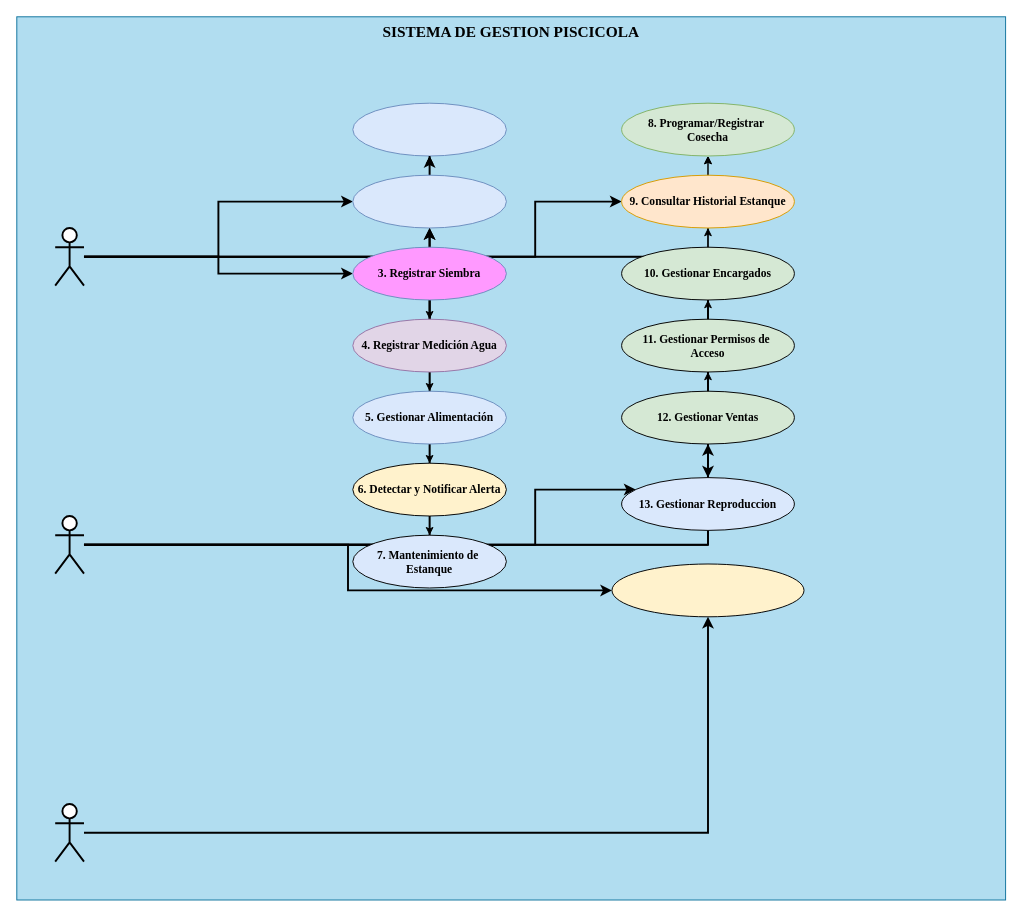
The diagram is 1022 pixels wide and 917 high, and some of its shapes have lost their labels. Here are the shapes that lost their labels. From the top down, the box of each, then its label:
(352, 102, 506, 156): 1. Gestionar Estanque
(352, 174, 506, 228): 2. Gestionar Lotes
(54, 227, 84, 286): Encargado
(54, 515, 84, 574): Jefe
(611, 563, 804, 617): 14. Registrar Solicitud Prod. Anticipada
(54, 803, 84, 862): Comprador
